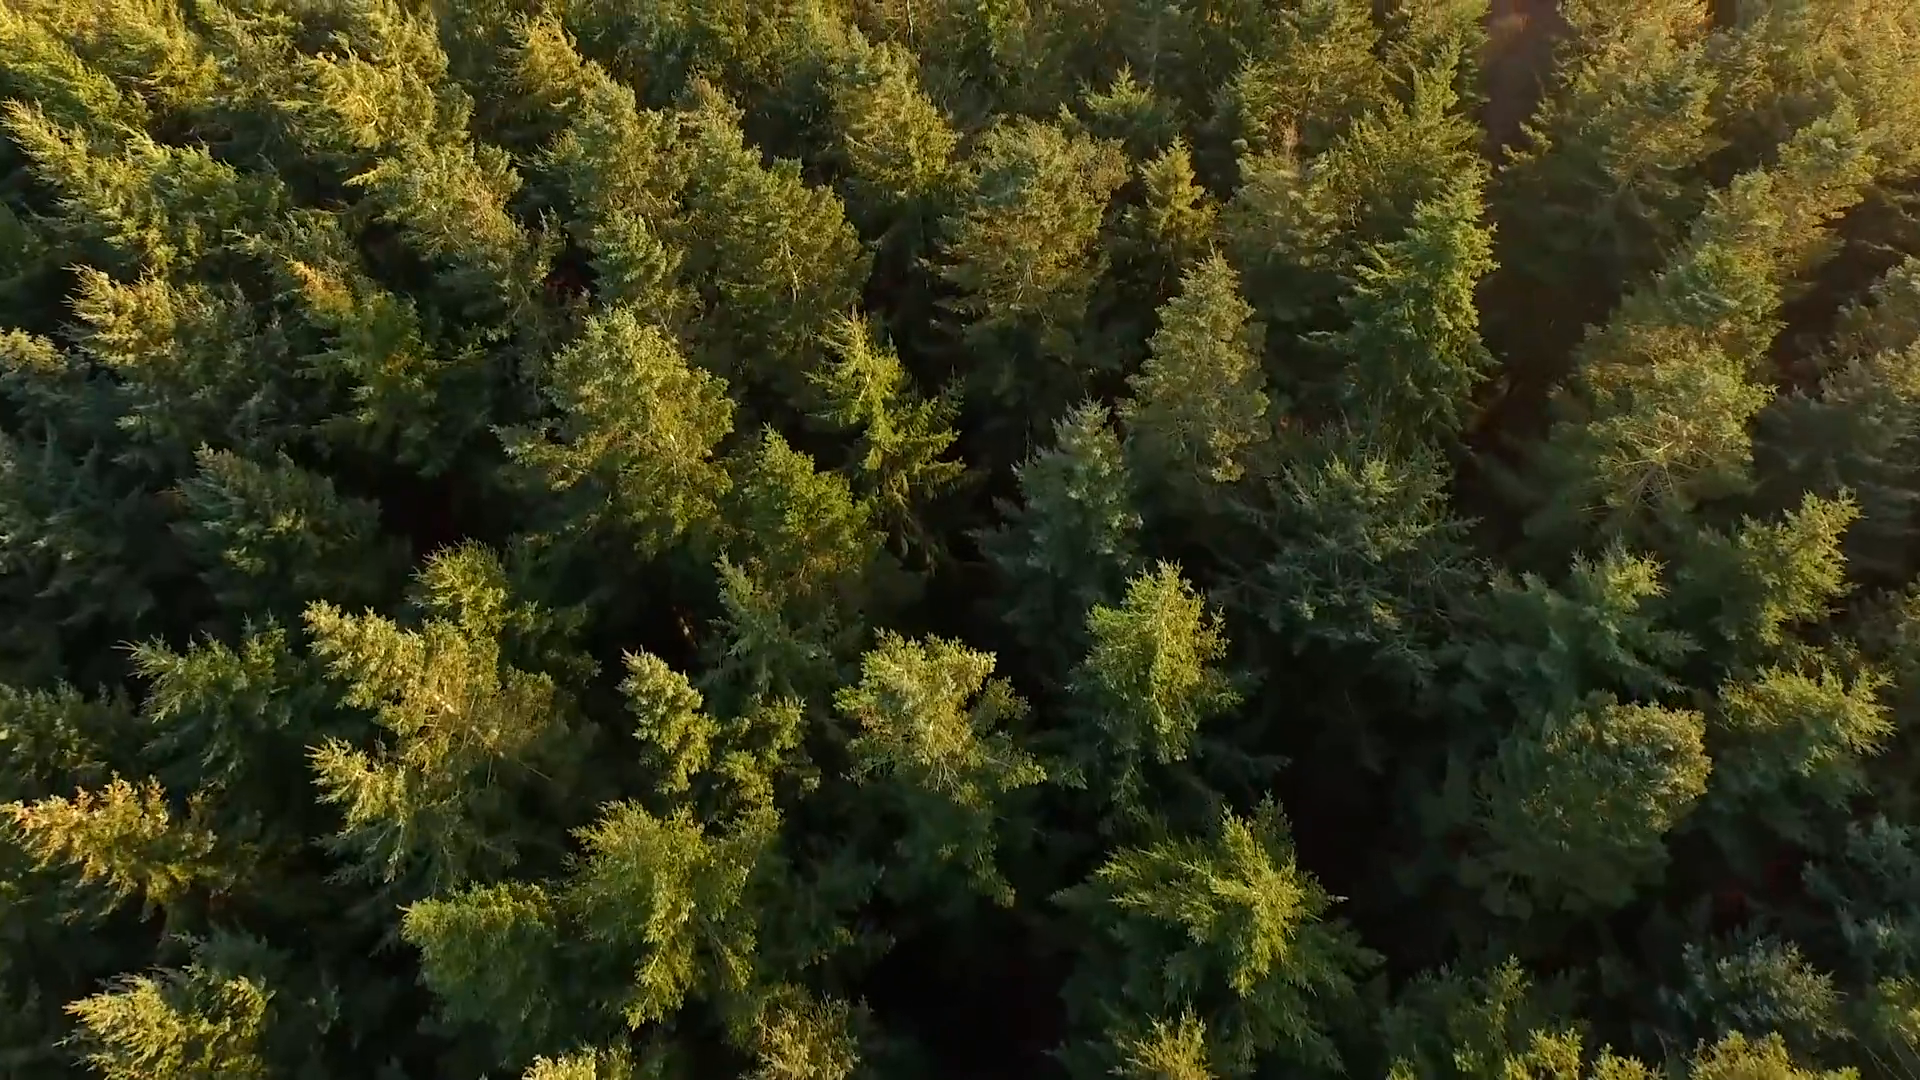forest-tree: (492, 304, 714, 518), (576, 806, 770, 1031), (298, 587, 526, 751), (357, 872, 586, 1036), (289, 734, 517, 898), (130, 432, 358, 596), (838, 634, 1041, 816), (1044, 555, 1247, 737), (1118, 807, 1321, 989), (1514, 685, 1717, 867), (1493, 519, 1696, 701), (1257, 439, 1460, 621), (95, 611, 322, 766), (1377, 934, 1615, 1080), (1, 771, 227, 926), (1725, 655, 1892, 863), (1706, 454, 1873, 662), (1363, 157, 1508, 393), (55, 239, 233, 428), (681, 105, 859, 294), (1570, 329, 1758, 496), (277, 246, 445, 434), (720, 417, 885, 573), (681, 546, 846, 702), (780, 300, 945, 456), (934, 108, 1099, 264), (799, 21, 964, 177), (44, 972, 275, 1076), (1658, 915, 1869, 1028), (115, 109, 299, 235), (995, 393, 1142, 550), (1126, 245, 1273, 402), (337, 117, 521, 243), (616, 640, 747, 810), (1587, 24, 1722, 184), (1369, 20, 1504, 180), (1, 92, 125, 238), (693, 982, 865, 1080), (1098, 982, 1270, 1080), (549, 56, 673, 190), (1638, 223, 1801, 325), (1111, 132, 1240, 240), (1767, 89, 1870, 216), (1186, 42, 1293, 142), (1188, 44, 1295, 144), (566, 200, 671, 295), (1678, 157, 1798, 222)
